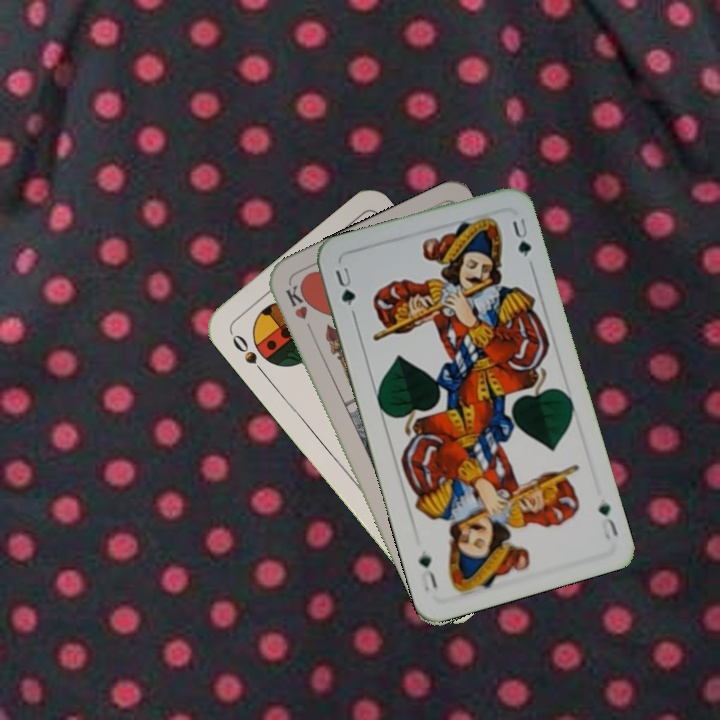GU: (331, 261, 358, 318), (594, 498, 621, 542)
HK: (281, 281, 317, 337)
SO: (228, 330, 268, 378)
